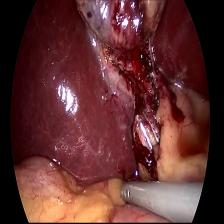Irrigator: (116, 176, 142, 210)
